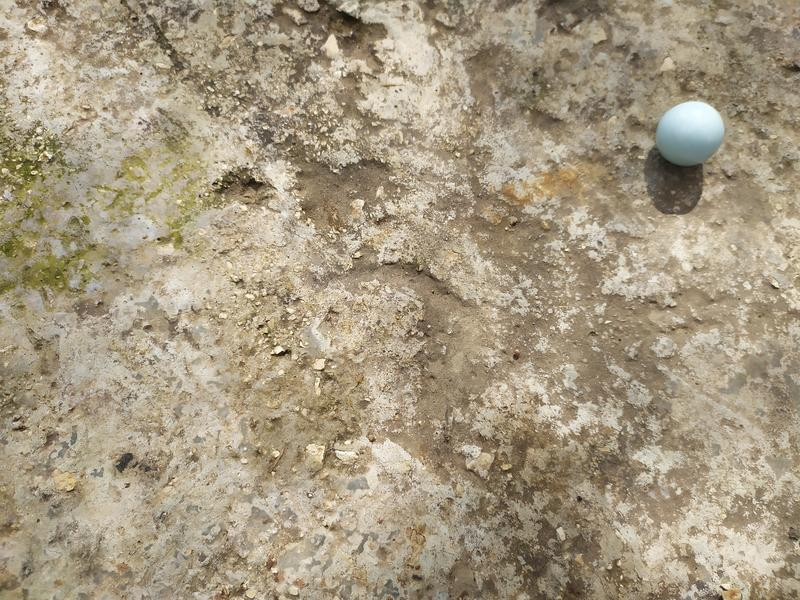Warning: (654, 99, 728, 169)
